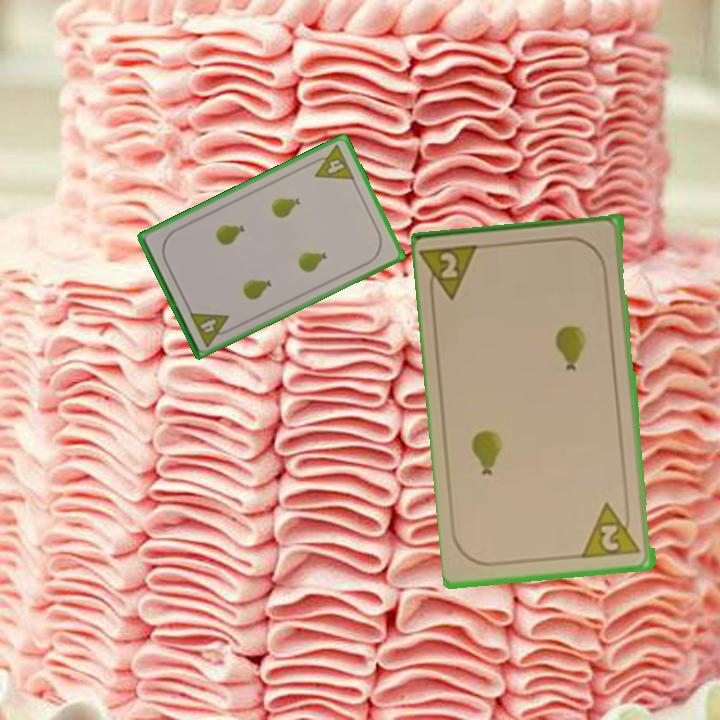2p: (420, 241, 485, 305), (581, 498, 644, 562)
4p: (306, 141, 357, 183), (186, 308, 236, 350)
